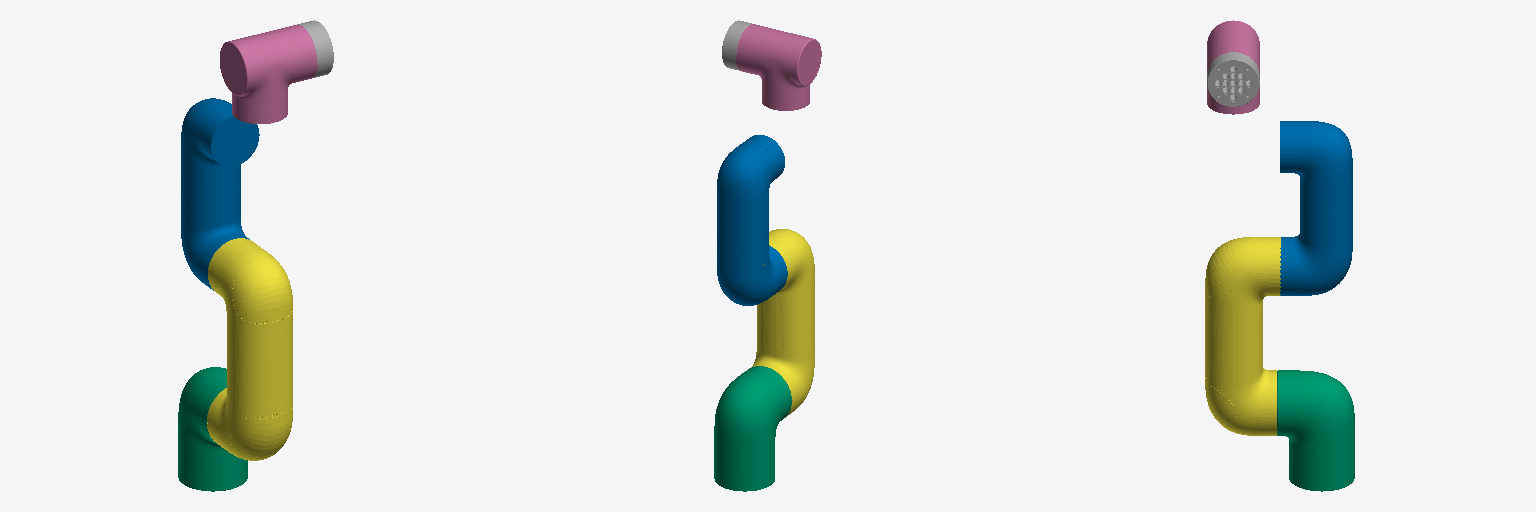
robot.urdf — firefighter:
<?xml version='1.0' encoding='utf-8'?>
<robot name="firefighter">
  <link name="g_base">
    <!-- placeholder inertial added by normalize_urdf.py - replace with CAD values -->
    <inertial>
      <origin xyz="0 0 0" rpy="0 0 0" />
      <mass value="0.1" />
      <inertia ixx="3.600e-05" ixy="0" ixz="0" iyy="3.600e-05" iyz="0" izz="3.600e-05" />
    </inertial>
    <visual>
      <geometry>
        <mesh filename="package://cps_robot_description/robots/mycobot_280_pi/meshes/G_base.dae" />
      </geometry>
      <origin xyz="0.0 0 -0.03" rpy="0 0 1.5708" />
    </visual>
    <collision>
      <geometry>
        <mesh filename="package://cps_robot_description/robots/mycobot_280_pi/meshes/G_base.dae" />
      </geometry>
      <origin xyz="0.0 0 -0.03" rpy="0 0 1.5708" />
    </collision>
  </link>
  <link name="joint1">
    <!-- placeholder inertial added by normalize_urdf.py - replace with CAD values -->
    <inertial>
      <origin xyz="0 0 0" rpy="0 0 0" />
      <mass value="0.1" />
      <inertia ixx="3.600e-05" ixy="0" ixz="0" iyy="3.600e-05" iyz="0" izz="3.600e-05" />
    </inertial>
    <visual>
      <geometry>
        <!--- 0.0 0 -0.04  1.5708 3.14159-->
        <mesh filename="package://cps_robot_description/robots/mycobot_280_pi/meshes/joint1_pi.dae" />
      </geometry>
      <origin xyz="0.0 0 0 " rpy=" 0 0 0" />
    </visual>
    <collision>
      <geometry>
        <!--- 0.0 0 -0.04  1.5708 3.14159-->
        <mesh filename="package://cps_robot_description/robots/mycobot_280_pi/meshes/joint1_pi.dae" />
      </geometry>
      <origin xyz="0.0 0 0 " rpy=" 0 0 0" />
    </collision>
  </link>
  <link name="joint2">
    <!-- placeholder inertial added by normalize_urdf.py - replace with CAD values -->
    <inertial>
      <origin xyz="0 0 0" rpy="0 0 0" />
      <mass value="0.1" />
      <inertia ixx="3.600e-05" ixy="0" ixz="0" iyy="3.600e-05" iyz="0" izz="3.600e-05" />
    </inertial>
    <visual>
      <geometry>
        <mesh filename="package://cps_robot_description/robots/mycobot_280_pi/meshes/joint2.dae" />
      </geometry>
      <origin xyz="0.0 0 -0.06096 " rpy=" 0 0 -1.5708" />
    </visual>
    <collision>
      <geometry>
        <mesh filename="package://cps_robot_description/robots/mycobot_280_pi/meshes/joint2.dae" />
      </geometry>
      <origin xyz="0.0 0 -0.06096 " rpy=" 0 0 -1.5708" />
    </collision>
  </link>
  <link name="joint3">
    <!-- placeholder inertial added by normalize_urdf.py - replace with CAD values -->
    <inertial>
      <origin xyz="0 0 0" rpy="0 0 0" />
      <mass value="0.1" />
      <inertia ixx="3.600e-05" ixy="0" ixz="0" iyy="3.600e-05" iyz="0" izz="3.600e-05" />
    </inertial>
    <visual>
      <geometry>
        <mesh filename="package://cps_robot_description/robots/mycobot_280_pi/meshes/joint3.dae" />
      </geometry>
      <origin xyz="0.0 0 0.03256 " rpy=" 0 -1.5708 0" />
    </visual>
    <collision>
      <geometry>
        <mesh filename="package://cps_robot_description/robots/mycobot_280_pi/meshes/joint3.dae" />
      </geometry>
      <origin xyz="0.0 0 0.03256 " rpy=" 0 -1.5708 0" />
    </collision>
  </link>
  <link name="joint4">
    <!-- placeholder inertial added by normalize_urdf.py - replace with CAD values -->
    <inertial>
      <origin xyz="0 0 0" rpy="0 0 0" />
      <mass value="0.1" />
      <inertia ixx="3.600e-05" ixy="0" ixz="0" iyy="3.600e-05" iyz="0" izz="3.600e-05" />
    </inertial>
    <visual>
      <geometry>
        <!--- 0.0 0 -0.04 -->
        <mesh filename="package://cps_robot_description/robots/mycobot_280_pi/meshes/joint4.dae" />
      </geometry>
      <origin xyz="0.0 0 0.03056 " rpy=" 0 -1.5708 0" />
    </visual>
    <collision>
      <geometry>
        <!--- 0.0 0 -0.04 -->
        <mesh filename="package://cps_robot_description/robots/mycobot_280_pi/meshes/joint4.dae" />
      </geometry>
      <origin xyz="0.0 0 0.03056 " rpy=" 0 -1.5708 0" />
    </collision>
  </link>
  <link name="joint5">
    <!-- placeholder inertial added by normalize_urdf.py - replace with CAD values -->
    <inertial>
      <origin xyz="0 0 0" rpy="0 0 0" />
      <mass value="0.1" />
      <inertia ixx="3.600e-05" ixy="0" ixz="0" iyy="3.600e-05" iyz="0" izz="3.600e-05" />
    </inertial>
    <visual>
      <geometry>
        <!--- 0.0 0 -0.04 -->
        <mesh filename="package://cps_robot_description/robots/mycobot_280_pi/meshes/joint5.dae" />
      </geometry>
      <origin xyz="0.0 0 -0.03356 " rpy=" 0 -1.5708 1.5708" />
    </visual>
    <collision>
      <geometry>
        <!--- 0.0 0 -0.04 -->
        <mesh filename="package://cps_robot_description/robots/mycobot_280_pi/meshes/joint5.dae" />
      </geometry>
      <origin xyz="0.0 0 -0.03356 " rpy=" 0 -1.5708 1.5708" />
    </collision>
  </link>
  <link name="joint6">
    <!-- placeholder inertial added by normalize_urdf.py - replace with CAD values -->
    <inertial>
      <origin xyz="0 0 0" rpy="0 0 0" />
      <mass value="0.1" />
      <inertia ixx="3.600e-05" ixy="0" ixz="0" iyy="3.600e-05" iyz="0" izz="3.600e-05" />
    </inertial>
    <visual>
      <geometry>
        <!--- 0.0 0 -0.04 -->
        <mesh filename="package://cps_robot_description/robots/mycobot_280_pi/meshes/joint6.dae" />
      </geometry>
      <origin xyz="0 0.00 -0.038 " rpy=" 0 0 0" />
    </visual>
    <collision>
      <geometry>
        <!--- 0.0 0 -0.04 -->
        <mesh filename="package://cps_robot_description/robots/mycobot_280_pi/meshes/joint6.dae" />
      </geometry>
      <origin xyz="0 0.00 -0.038 " rpy=" 0 0 0" />
    </collision>
  </link>
  <link name="joint6_flange">
    <!-- placeholder inertial added by normalize_urdf.py - replace with CAD values -->
    <inertial>
      <origin xyz="0 0 0" rpy="0 0 0" />
      <mass value="0.1" />
      <inertia ixx="3.600e-05" ixy="0" ixz="0" iyy="3.600e-05" iyz="0" izz="3.600e-05" />
    </inertial>
    <visual>
      <geometry>
        <!--- 0.0 0 -0.04 -->
        <mesh filename="package://cps_robot_description/robots/mycobot_280_pi/meshes/joint7.dae" />
      </geometry>
      <origin xyz="0.0 0 -0.012 " rpy=" 0 0 0" />
    </visual>
    <collision>
      <geometry>
        <!--- 0.0 0 -0.04 -->
        <mesh filename="package://cps_robot_description/robots/mycobot_280_pi/meshes/joint7.dae" />
      </geometry>
      <origin xyz="0.0 0 -0.012 " rpy=" 0 0 0" />
    </collision>
  </link>
  <joint name="g_base_to_joint1" type="fixed">
    <axis xyz="0 0 0" />
    <limit effort="1000.0" lower="-3.14" upper="3.14159" velocity="0" />
    <parent link="g_base" />
    <child link="joint1" />
    <origin xyz="0 0 0" rpy="0 0 0" />
  </joint>
  <joint name="joint2_to_joint1" type="revolute">
    <axis xyz="0 0 1" />
    <limit effort="1000.0" lower="-3.14" upper="3.14159" velocity="2" />
    <parent link="joint1" />
    <child link="joint2" />
    <origin xyz="0 0 0.13956" rpy="0 0 0" />
  </joint>
  <joint name="joint3_to_joint2" type="revolute">
    <axis xyz="0 0 1" />
    <limit effort="1000.0" lower="-3.14" upper="3.14159" velocity="2" />
    <parent link="joint2" />
    <child link="joint3" />
    <origin xyz="0 0 -0.001" rpy="0 1.5708 -1.5708" />
  </joint>
  <joint name="joint4_to_joint3" type="revolute">
    <axis xyz=" 0 0 1" />
    <limit effort="1000.0" lower="-3.14" upper="3.14159" velocity="2" />
    <parent link="joint3" />
    <child link="joint4" />
    <origin xyz="  -0.1104 0 0   " rpy="0 0 0" />
  </joint>
  <joint name="joint5_to_joint4" type="revolute">
    <axis xyz=" 0 0 1" />
    <limit effort="1000.0" lower="-3.14" upper="3.14159" velocity="2" />
    <parent link="joint4" />
    <child link="joint5" />
    <origin xyz="-0.096 0 0.06462" rpy="0 0 -1.5708" />
  </joint>
  <joint name="joint6_to_joint5" type="revolute">
    <axis xyz="0 0 1" />
    <limit effort="1000.0" lower="-3.14" upper="3.14159" velocity="2" />
    <parent link="joint5" />
    <child link="joint6" />
    <origin xyz="0 -0.07318 0" rpy="1.5708 -1.5708 0" />
  </joint>
  <joint name="joint6output_to_joint6" type="revolute">
    <axis xyz="0 0 1" />
    <limit effort="1000.0" lower="-3.14" upper="3.14159" velocity="2" />
    <parent link="joint6" />
    <child link="joint6_flange" />
    <origin xyz="0 0.0456 0" rpy="-1.5708 0 0" />
  </joint>
</robot>

--- What the picture shows (computed from the rendered views, not written in the file) ---
Views: 3 orthographic renders of the robot side by side, from view 1: azimuth 30°, elevation 25°; view 2: azimuth 150°, elevation 25°; view 3: azimuth 270°, elevation 25°.
Model firefighter with 8 links and 7 joints (6 revolute, 1 fixed), rooted at g_base, posed all joints at 0.
Links seen in each view (by area): view 1: joint3, joint4, joint6, joint2, joint6_flange; view 2: joint4, joint2, joint3, joint6, joint6_flange; view 3: joint3, joint4, joint2, joint6_flange, joint6.
Boxes of the visible links, bbox=[...] form: joint3: bbox=[207, 238, 292, 460]; joint4: bbox=[181, 98, 259, 290]; joint6: bbox=[220, 25, 317, 123]; joint2: bbox=[178, 367, 247, 491]; joint6_flange: bbox=[297, 20, 333, 77]; joint4: bbox=[717, 135, 787, 305]; joint2: bbox=[714, 366, 791, 491]; joint3: bbox=[749, 229, 814, 417]; joint6: bbox=[736, 24, 821, 110]; joint6_flange: bbox=[722, 20, 751, 70]; joint3: bbox=[1205, 237, 1280, 435]; joint4: bbox=[1280, 121, 1352, 295]; joint2: bbox=[1277, 370, 1354, 491]; joint6_flange: bbox=[1207, 52, 1259, 106]; joint6: bbox=[1207, 20, 1259, 114].
Bounding box of the posed robot: 0.0713 × 0.1092 × 0.3619 m (x, y, z).
Meshes: 8 distinct files referenced, 5 mesh visuals loaded (5 Collada DAE); not drawn: 3 (reference not matched to a file when rendering).
